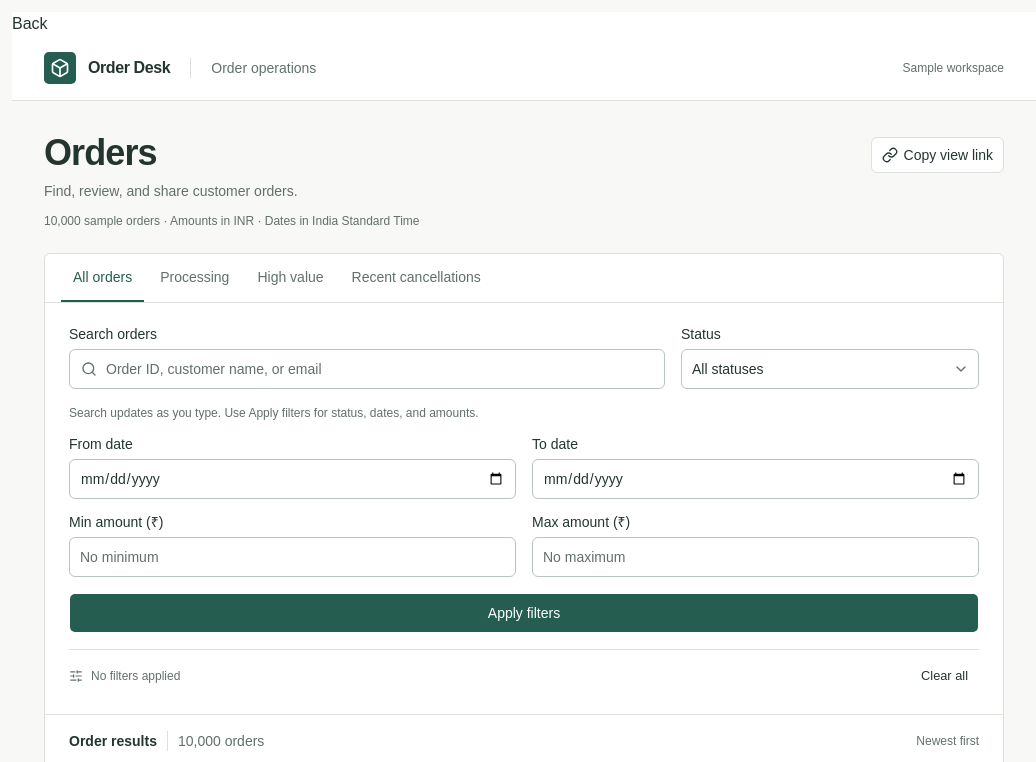
Test: invalid amount range stays local and focuses the error field
Type "100" into the number field labelled "Min amount (₹)" at (292, 557), box [69,537,516,577]
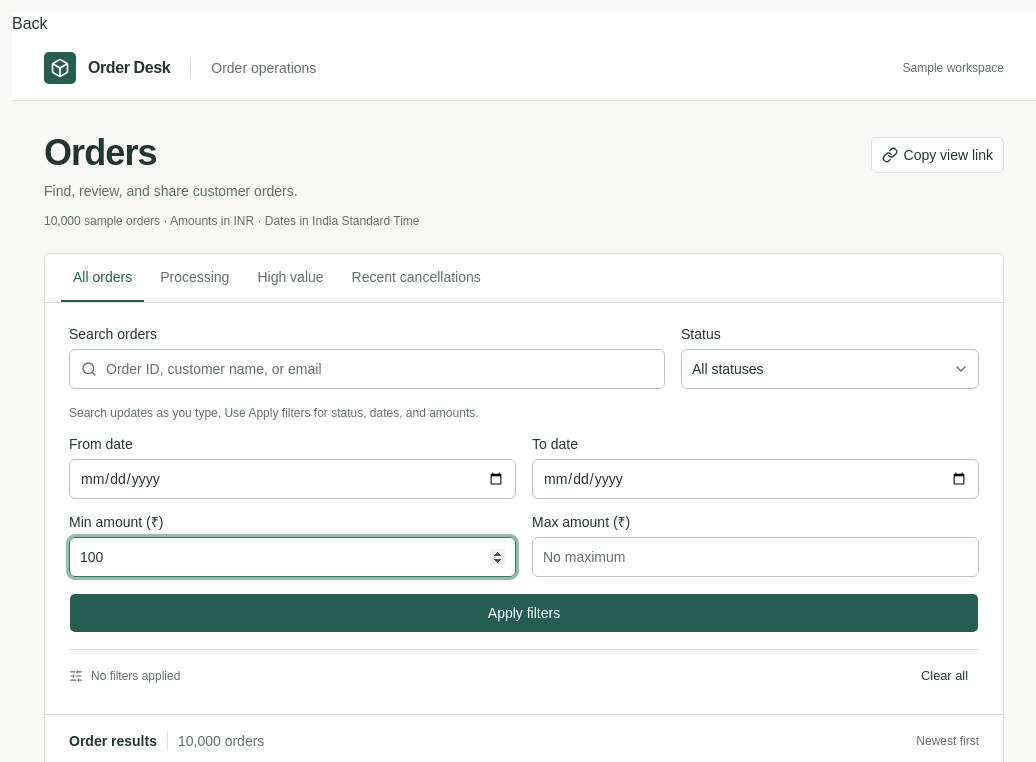
Type "50" into the number field labelled "Max amount (₹)" at (756, 557), box [532,537,979,577]
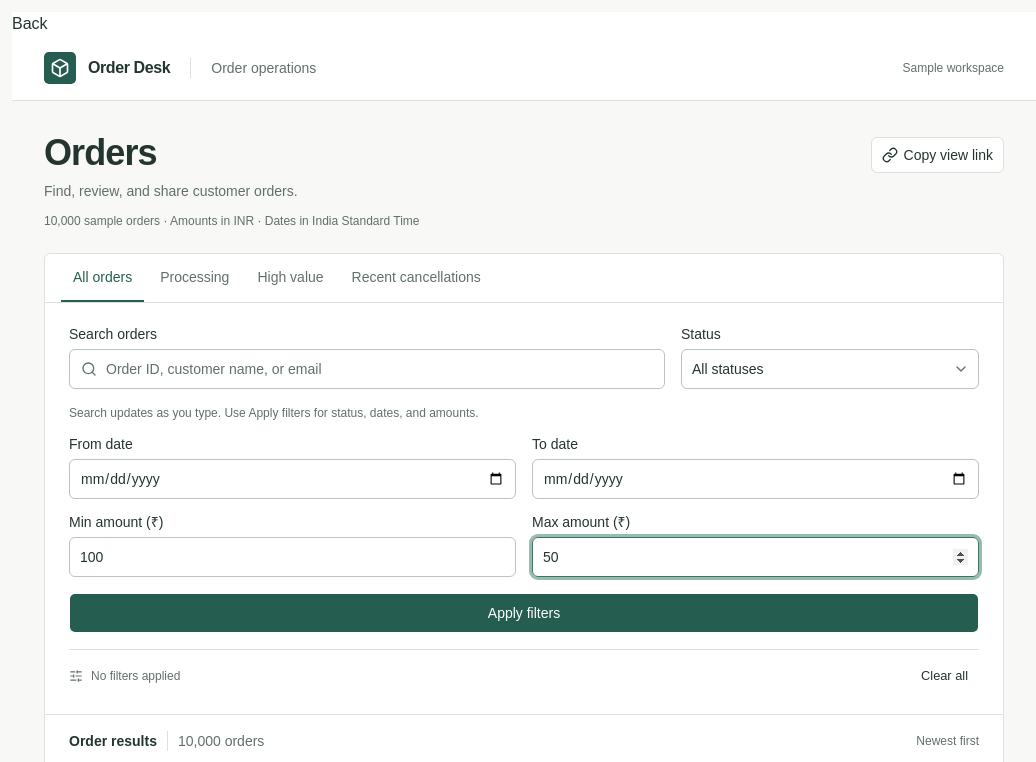
Click the button "Apply filters" at (524, 613), box [69,593,979,633]
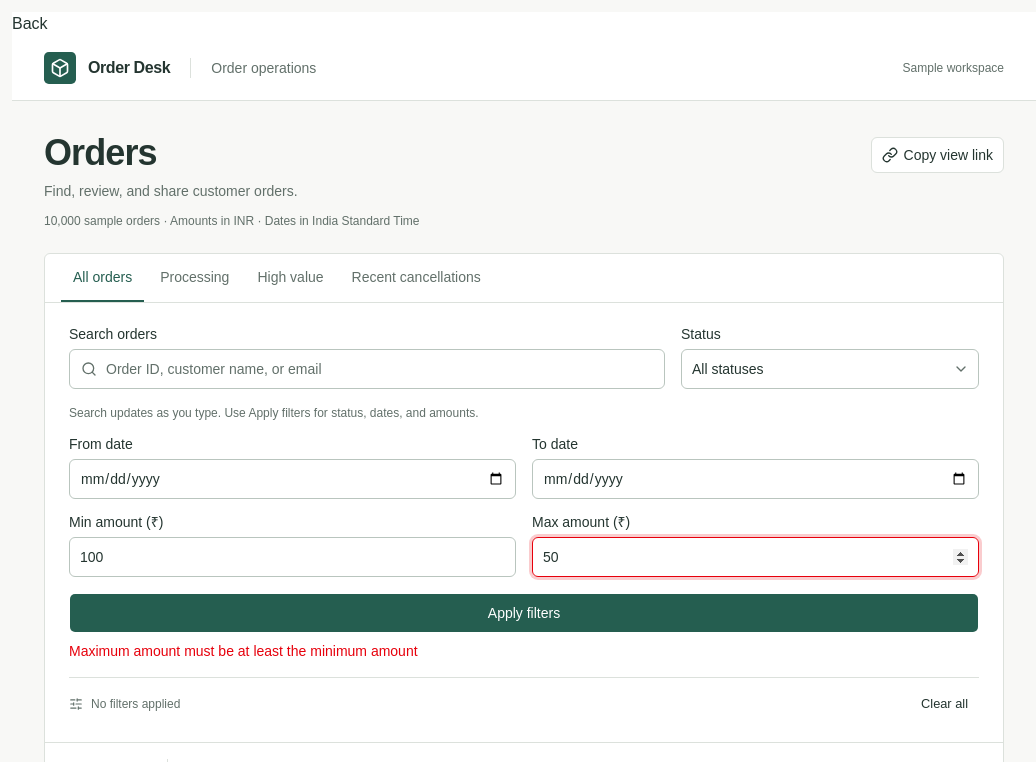
expect the message "Maximum amount must be at least the minimum amount" is shown: met, box [69,643,418,659]
